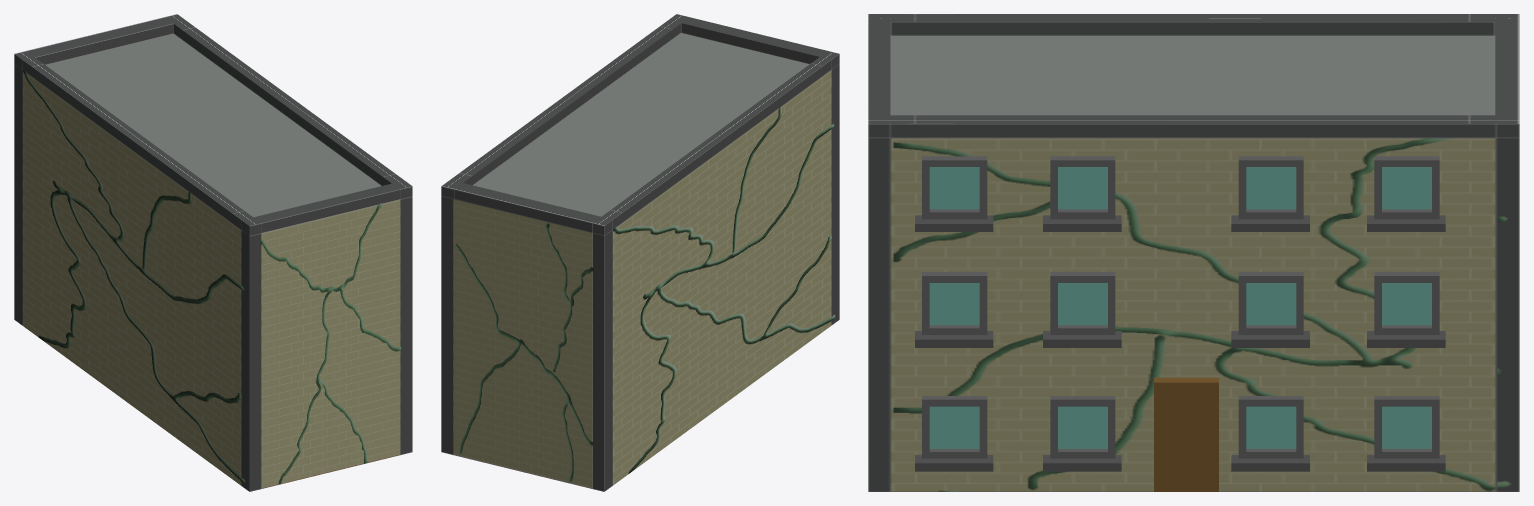
Rendered from Shortapartmentyellow.fbx.
3 views of the same model, side by side, from view 1: azimuth 30°, elevation 25°; view 2: azimuth 150°, elevation 25°; view 3: azimuth 270°, elevation 25° (orthographic). The views are drawn at different scales.
Parts seen in each view (by area): view 1: polySurface262; view 2: polySurface262; view 3: polySurface262.
Boxes of the visible parts, box(x1,y1,x2,y2) form: polySurface262: box(14, 14, 412, 491); polySurface262: box(441, 14, 839, 491); polySurface262: box(868, 14, 1519, 491).
Size of the model in its own units: 4.31 by 6.23 by 10.
